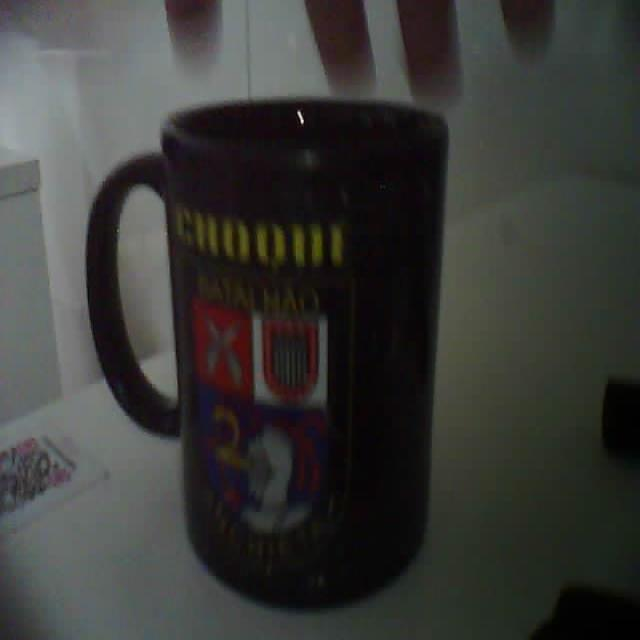caneca: (85, 99, 448, 607)
